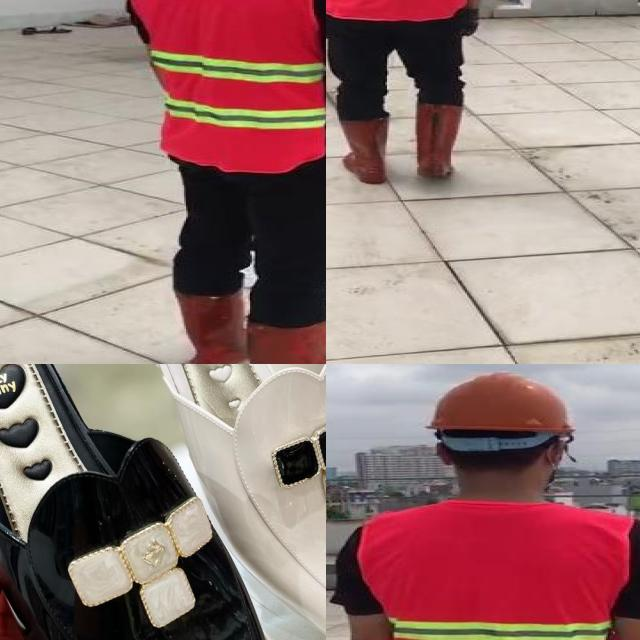Sandals: (0, 364, 312, 640), (124, 364, 326, 640)
boots: (171, 289, 244, 364), (244, 311, 326, 364), (412, 101, 467, 179), (334, 115, 391, 184)
hand_glove: (462, 10, 479, 37)
head_helmet: (421, 372, 576, 436)
person: (326, 370, 640, 640), (117, 0, 326, 364), (326, 0, 505, 199)
vest: (355, 502, 627, 640), (129, 0, 326, 173)
